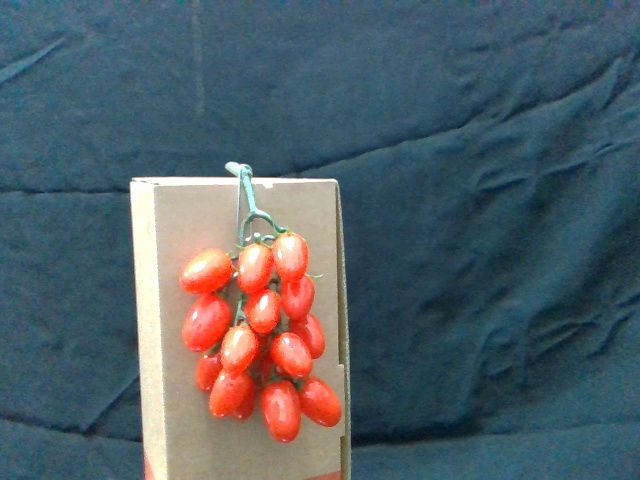tomato: (258, 378, 303, 447), (187, 292, 231, 353), (181, 249, 235, 295), (237, 241, 277, 295), (300, 377, 344, 426), (221, 328, 264, 378), (208, 371, 249, 419), (244, 284, 282, 335), (271, 331, 313, 376), (283, 313, 326, 355), (280, 276, 318, 322), (275, 234, 309, 283), (193, 353, 225, 396)
